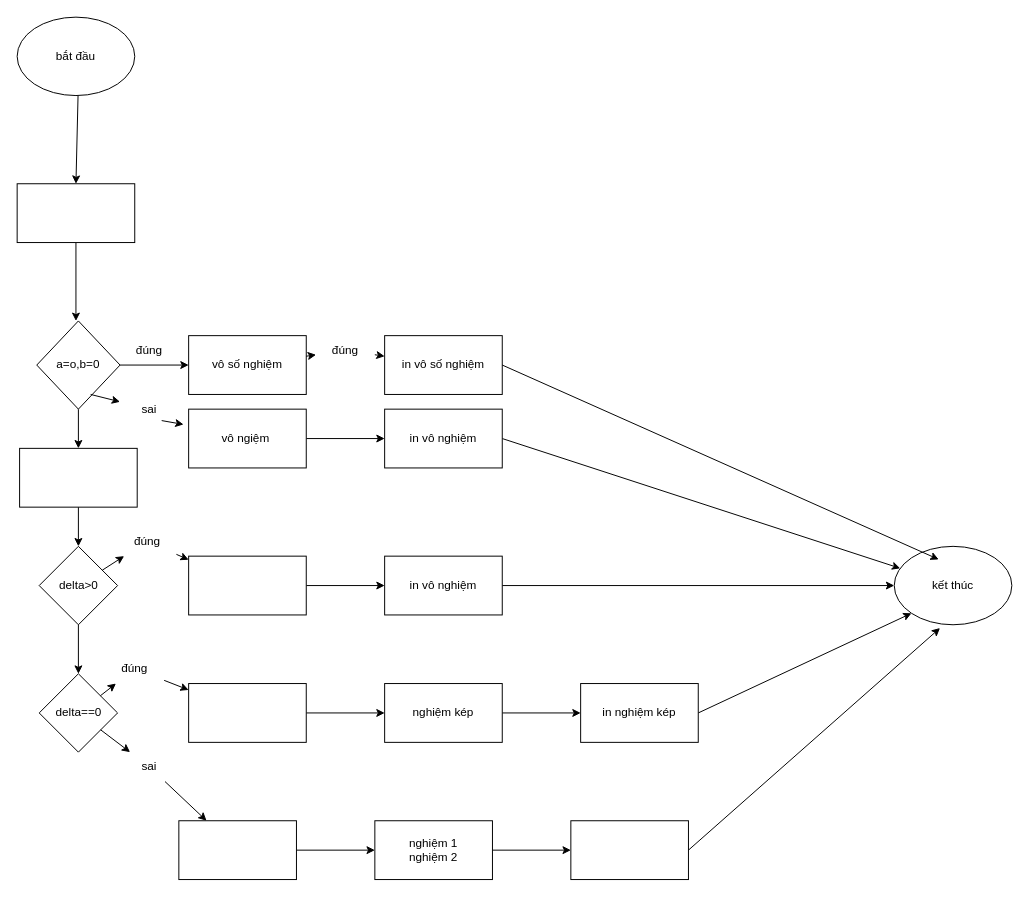
This 1029x897 diagram has some shape labels left out. The centre of each missing label's shape, as x and y in pixels:
"in nghiệm 1 in nghiệm 2" belongs at point 629,850.
"nhập a,b,x" belongs at point 75,213.
"tính delta B*2-4AC" belongs at point 78,477.
"tính nghiệm 1 =(-b=căn(delta))/(2a) tính nghiệm 2 = (-b căn (delta))/(2a)" belongs at point 237,850.
"tính x=-B/2A" belongs at point 247,712.
"vô nghiệm" belongs at point 247,585.
